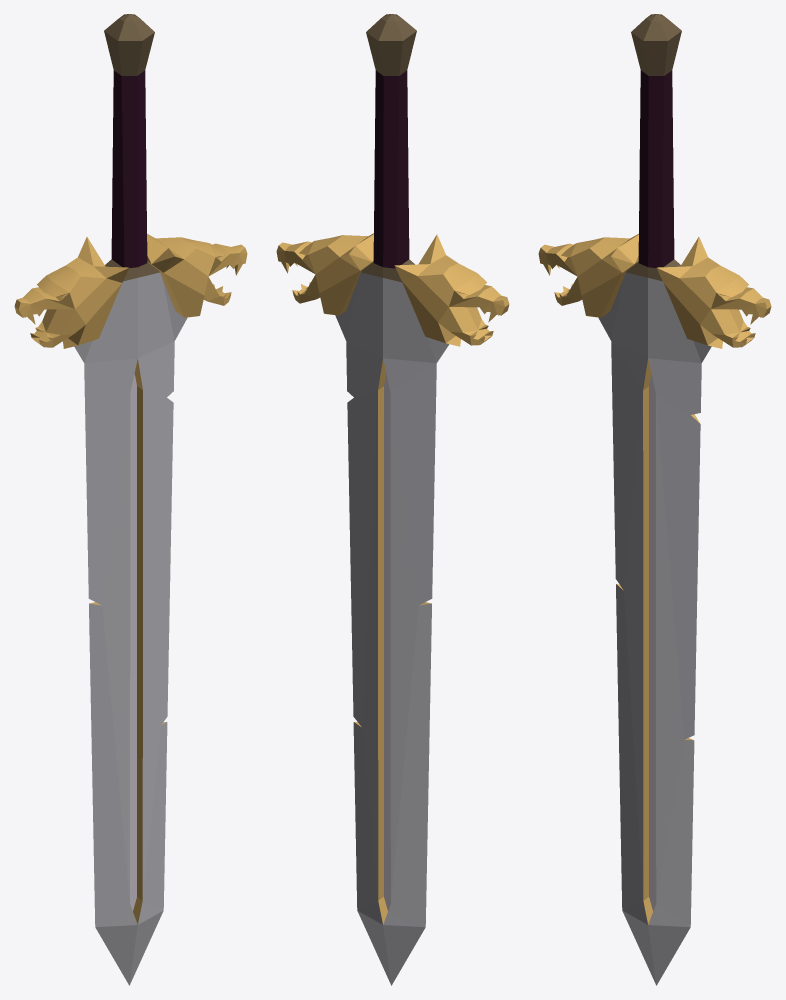
Rendered from Sword.fbx.
The picture shows the model from 3 angles, left to right: view 1: azimuth 30°, elevation 25°; view 2: azimuth 150°, elevation 25°; view 3: azimuth 330°, elevation 25°; orthographic projection.
Visible parts, largest first — view 1: Sword_Finished; view 2: Sword_Finished; view 3: Sword_Finished.
Part boxes in pixels (x1,y1,x2,y2): Sword_Finished: [14, 14, 247, 985]; Sword_Finished: [276, 14, 509, 985]; Sword_Finished: [538, 14, 771, 985].
Size of the model in its own units: 44.32 by 180 by 14.33.
